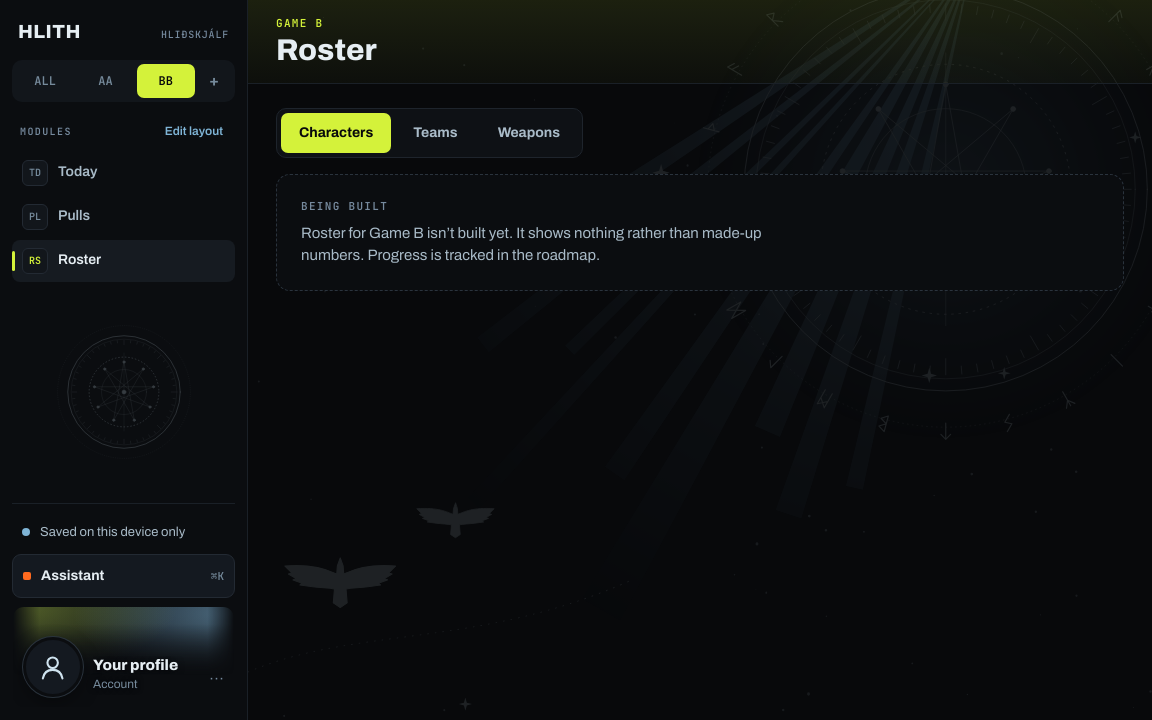
it: Edit layout › never lets the last visible module be hidden
Click the button "Edit layout": click(194, 132) top-left (157, 118), bottom-right (231, 146)
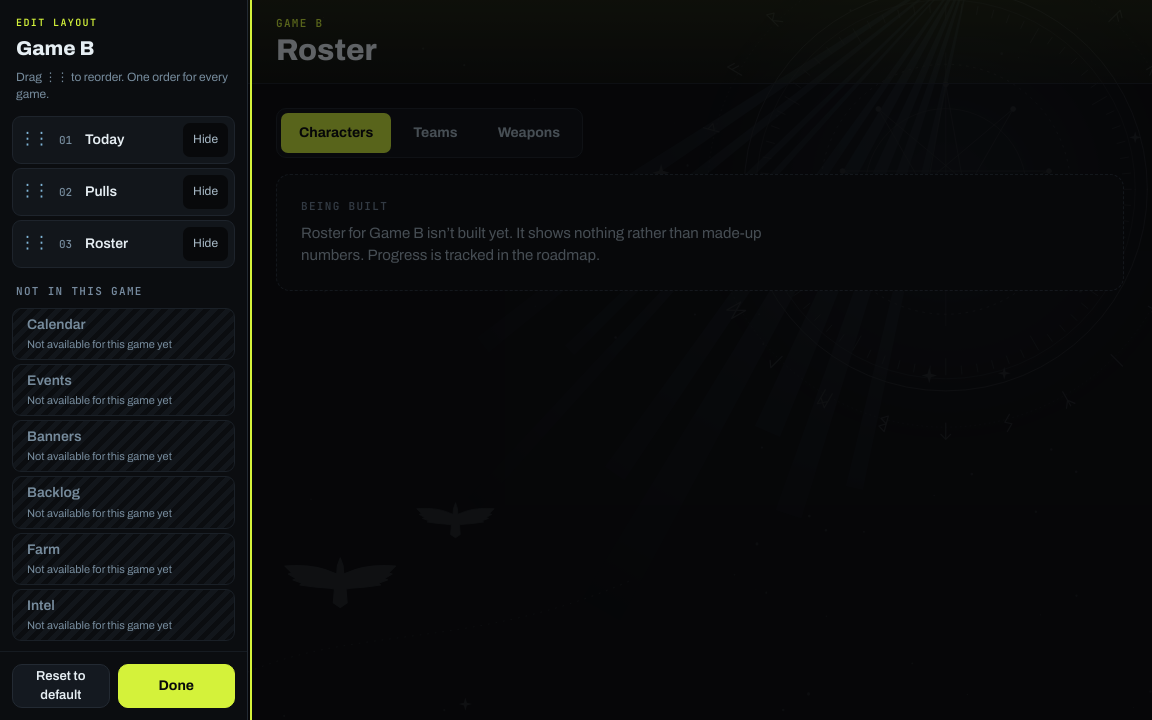
Click the button "Hide " in the row of "01": click(206, 140) top-left (183, 123), bottom-right (228, 157)
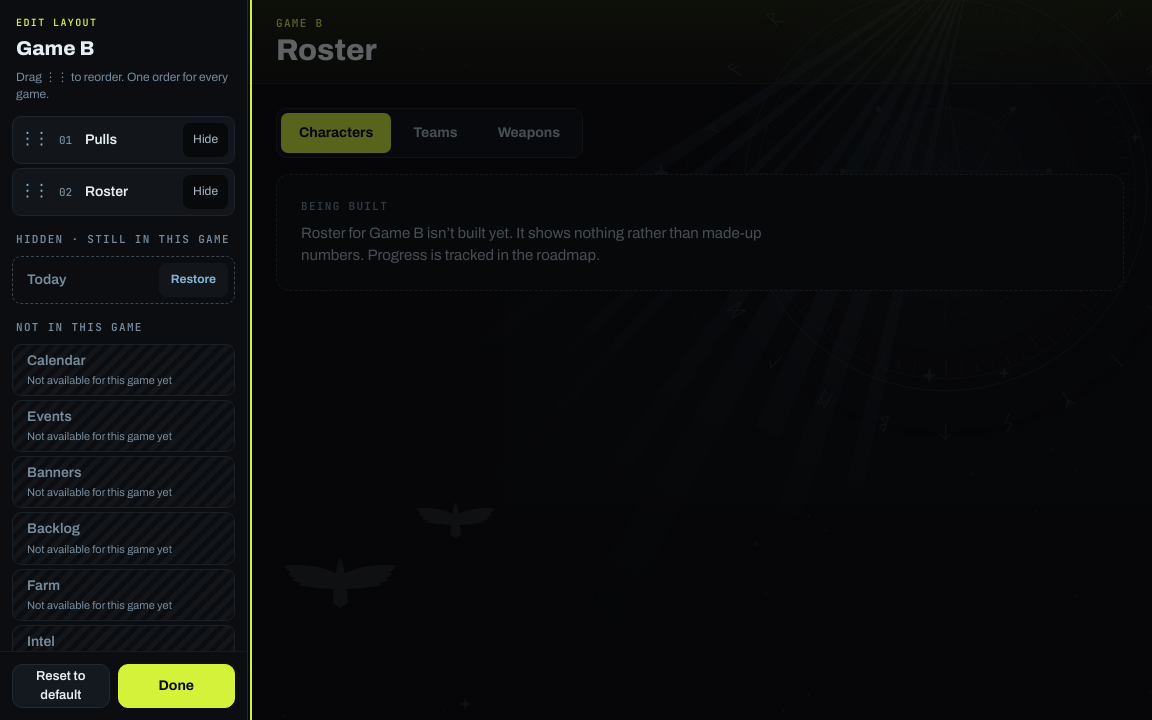
Click the button "Hide " in the row of "01": click(206, 140) top-left (183, 123), bottom-right (228, 157)
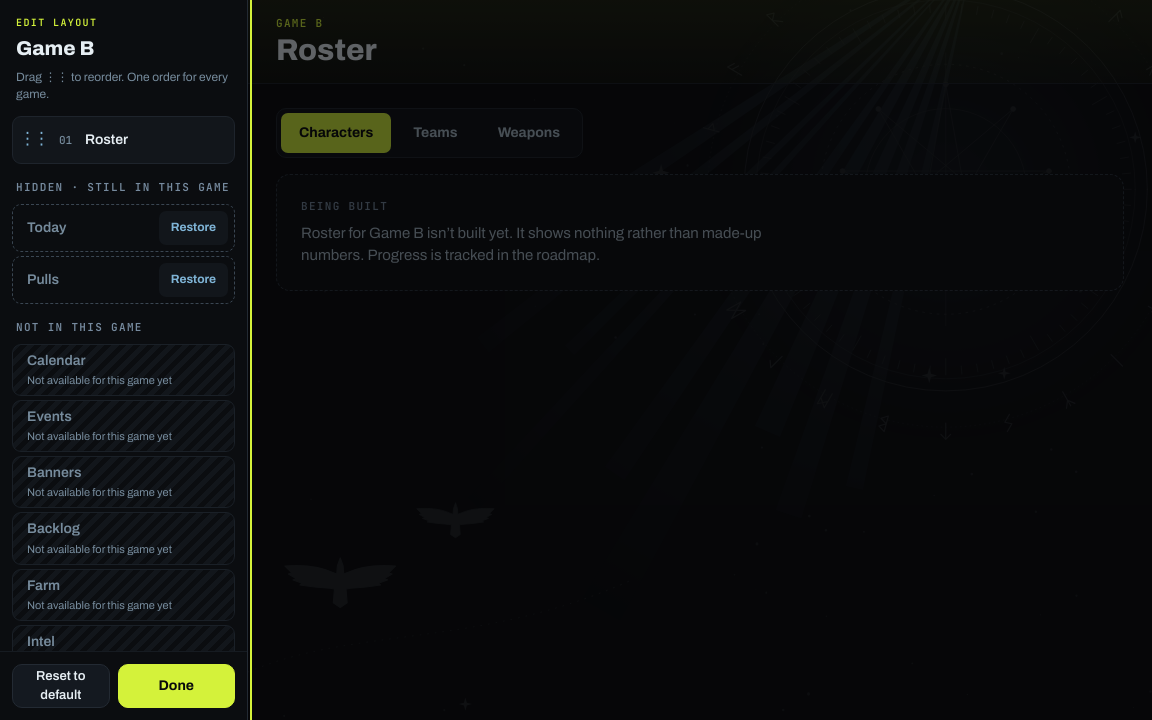
Result: no buttons "Hide " are shown
